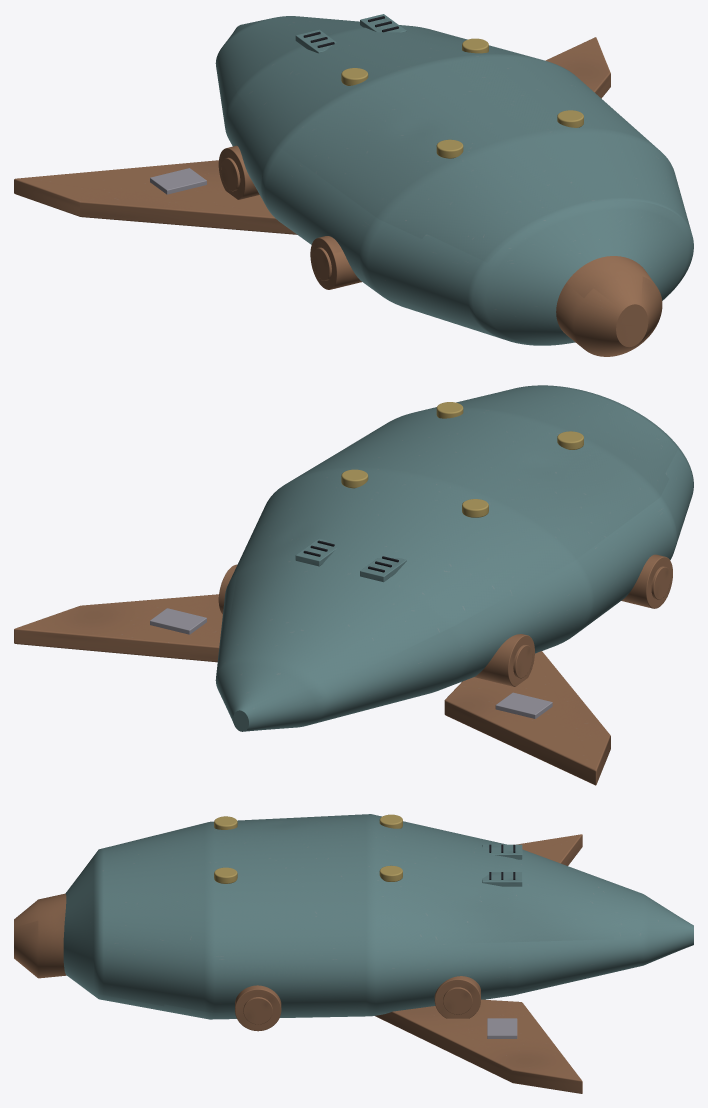
3 renders of one model, top to bottom at view 1: azimuth 30°, elevation 25°; view 2: azimuth 150°, elevation 25°; view 3: azimuth 270°, elevation 25°, orthographic. The views are drawn at different scales.
Visible parts, largest first — view 1: Messier-Lukannon flattened slate hull, Messier-Lukannon copper ventral wing -1, Messier-Lukannon copper terminal, Messier-Lukannon copper ventral wing 1, Messier-Lukannon side boss bezel -1 0, Messier-Lukannon ventral wing pad -1, Messier-Lukannon side boss bezel -1 1, Messier-Lukannon slate service cover -1; view 2: Messier-Lukannon flattened slate hull, Messier-Lukannon copper ventral wing -1, Messier-Lukannon copper ventral wing 1, Messier-Lukannon side boss bezel -1 1, Messier-Lukannon side boss bezel -1 0, Messier-Lukannon ventral wing pad -1, Messier-Lukannon ventral wing pad 1, Messier-Lukannon slate service cover -1, Messier-Lukannon slate service cover 1; view 3: Messier-Lukannon flattened slate hull, Messier-Lukannon copper ventral wing 1, Messier-Lukannon copper terminal, Messier-Lukannon copper ventral wing -1, Messier-Lukannon side boss bezel 1 0, Messier-Lukannon side boss bezel 1 1, Messier-Lukannon side boss face 1 1, Messier-Lukannon side boss face 1 0, Messier-Lukannon ventral wing pad 1, Messier-Lukannon slate service cover 1, Messier-Lukannon slate service cover -1.
Part boxes in pixels (bbox=[...]): Messier-Lukannon flattened slate hull: bbox=[215, 16, 693, 345]; Messier-Lukannon copper ventral wing -1: bbox=[14, 160, 297, 234]; Messier-Lukannon copper terminal: bbox=[556, 256, 662, 356]; Messier-Lukannon copper ventral wing 1: bbox=[545, 37, 610, 98]; Messier-Lukannon side boss bezel -1 0: bbox=[310, 236, 361, 289]; Messier-Lukannon ventral wing pad -1: bbox=[150, 168, 206, 194]; Messier-Lukannon side boss bezel -1 1: bbox=[218, 145, 259, 199]; Messier-Lukannon slate service cover -1: bbox=[295, 29, 336, 53]; Messier-Lukannon flattened slate hull: bbox=[215, 385, 693, 731]; Messier-Lukannon copper ventral wing -1: bbox=[444, 651, 610, 785]; Messier-Lukannon copper ventral wing 1: bbox=[14, 594, 222, 662]; Messier-Lukannon side boss bezel -1 1: bbox=[474, 634, 534, 686]; Messier-Lukannon side boss bezel -1 0: bbox=[621, 554, 672, 608]; Messier-Lukannon ventral wing pad -1: bbox=[495, 692, 552, 718]; Messier-Lukannon ventral wing pad 1: bbox=[150, 608, 206, 634]; Messier-Lukannon slate service cover -1: bbox=[360, 558, 406, 582]; Messier-Lukannon slate service cover 1: bbox=[295, 538, 336, 566]; Messier-Lukannon flattened slate hull: bbox=[63, 814, 693, 1019]; Messier-Lukannon copper ventral wing 1: bbox=[375, 999, 582, 1093]; Messier-Lukannon copper terminal: bbox=[14, 893, 66, 978]; Messier-Lukannon copper ventral wing -1: bbox=[516, 834, 582, 865]; Messier-Lukannon side boss bezel 1 0: bbox=[235, 985, 281, 1031]; Messier-Lukannon side boss bezel 1 1: bbox=[434, 976, 480, 1018]; Messier-Lukannon side boss face 1 1: bbox=[443, 987, 472, 1014]; Messier-Lukannon side boss face 1 0: bbox=[243, 997, 272, 1024]; Messier-Lukannon ventral wing pad 1: bbox=[487, 1018, 517, 1038]; Messier-Lukannon slate service cover 1: bbox=[482, 872, 522, 886]; Messier-Lukannon slate service cover -1: bbox=[482, 844, 522, 859].
Bounding box in the file's own units: 2.9 × 0.83 × 3.37.
5 materials, 2 textured.
